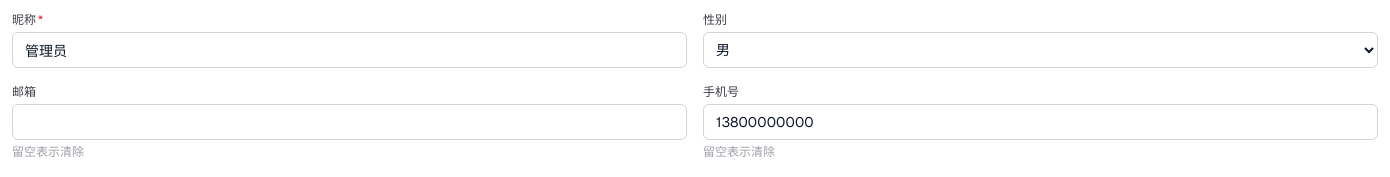
Test case: ProfileBasicInfoForm › 非法邮箱时阻止提交
The width and height of the screenshot is (1390, 177).
Step 1. Type "not-an-email" into the field below "邮箱" → (350, 122), box top-left (12, 104), bottom-right (687, 140)
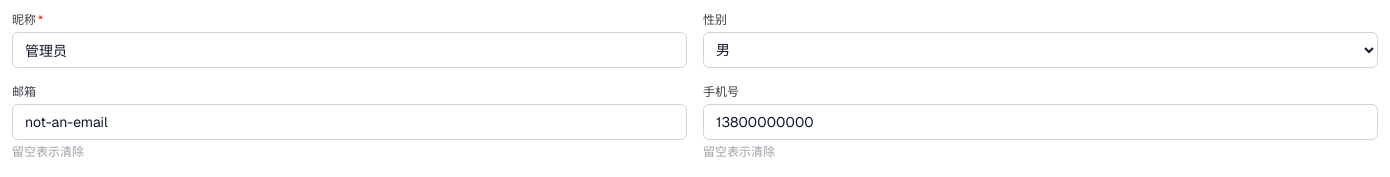
Step 2. Submit the form with id "test-form"
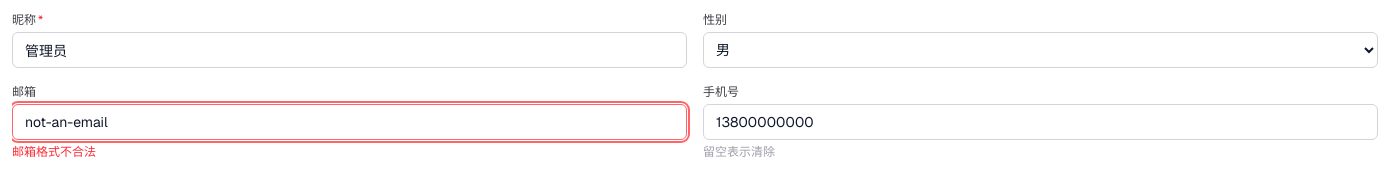
Check: the text "邮箱格式不合法" is shown, box top-left (12, 144), bottom-right (96, 160)
